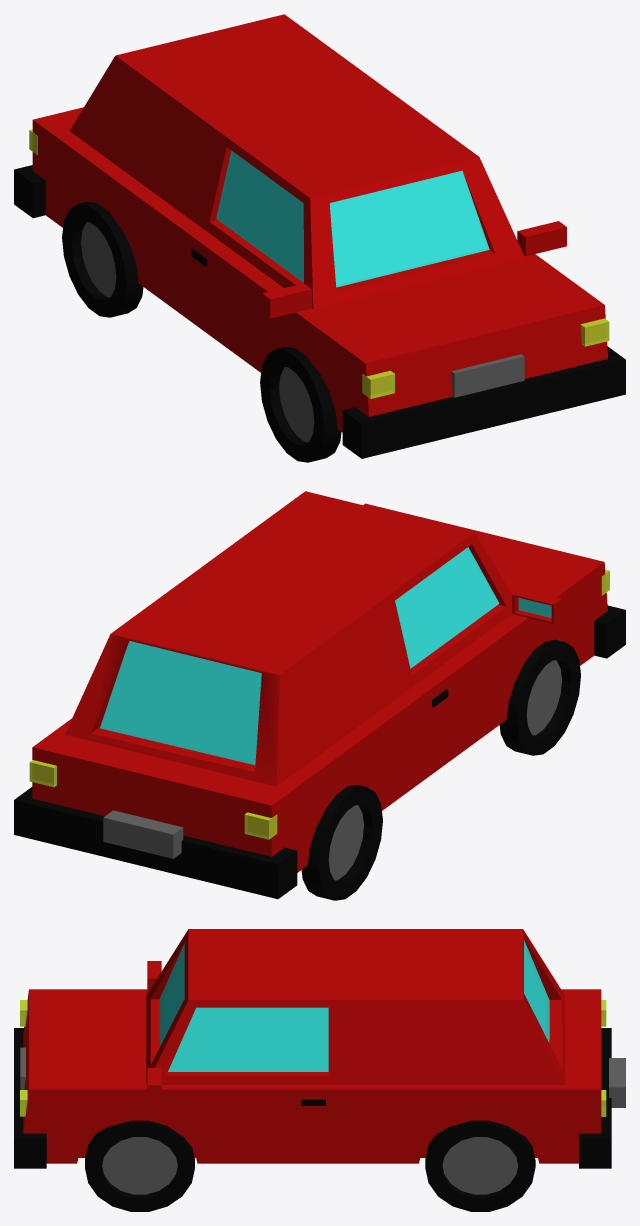
File: lowpoly car1 red.fbx
The picture shows the model from 3 angles, top to bottom: view 1: azimuth 30°, elevation 25°; view 2: azimuth 150°, elevation 25°; view 3: azimuth 270°, elevation 25°; orthographic projection. The views are drawn at different scales.
Visible parts, largest first — view 1: Box002, Box009, Box003, Cylinder026, Cylinder008, Box012, Box004, Box013, Box008, Box173, Box006, Box005; view 2: Box002, Box178, Box013, Cylinder008, Cylinder026, Box012, Box050, Box003, Box008, Box016, Box015; view 3: Box002, Box014, Cylinder025, Cylinder027, Box013, Box003, Box009, Box178, Box050, Box173.
Boxes of the visible parts, left/top/right/bottom form: Box002: left=32, top=14, right=608, bottom=432; Box009: left=329, top=170, right=489, bottom=287; Box003: left=342, top=346, right=625, bottom=458; Cylinder026: left=260, top=347, right=341, bottom=462; Cylinder008: left=62, top=202, right=143, bottom=317; Box012: left=216, top=150, right=303, bottom=282; Box004: left=451, top=354, right=524, bottom=397; Box013: left=14, top=165, right=45, bottom=218; Box008: left=262, top=283, right=311, bottom=318; Box173: left=517, top=221, right=566, bottom=256; Box006: left=362, top=370, right=394, bottom=398; Box005: left=580, top=318, right=609, bottom=346; Box002: left=32, top=491, right=607, bottom=872; Box178: left=100, top=641, right=261, bottom=765; Box013: left=14, top=787, right=297, bottom=899; Cylinder008: left=301, top=785, right=382, bottom=900; Cylinder026: left=499, top=639, right=580, bottom=755; Box012: left=395, top=547, right=499, bottom=668; Box050: left=103, top=810, right=183, bottom=858; Box003: left=594, top=605, right=625, bottom=658; Box008: left=512, top=588, right=561, bottom=623; Box016: left=244, top=812, right=277, bottom=839; Box015: left=29, top=760, right=56, bottom=787; Box002: left=23, top=929, right=601, bottom=1163; Box014: left=168, top=1007, right=328, bottom=1071; Cylinder025: left=425, top=1120, right=535, bottom=1211; Cylinder027: left=85, top=1120, right=194, bottom=1211; Box013: left=579, top=1028, right=611, bottom=1168; Box003: left=14, top=1028, right=46, bottom=1168; Box009: left=159, top=943, right=184, bottom=1046; Box178: left=524, top=940, right=549, bottom=1042; Box050: left=609, top=1058, right=625, bottom=1107; Box173: left=147, top=1068, right=161, bottom=1101.
Bounding box in the file's own units: 52.22 × 38.2 × 109.
